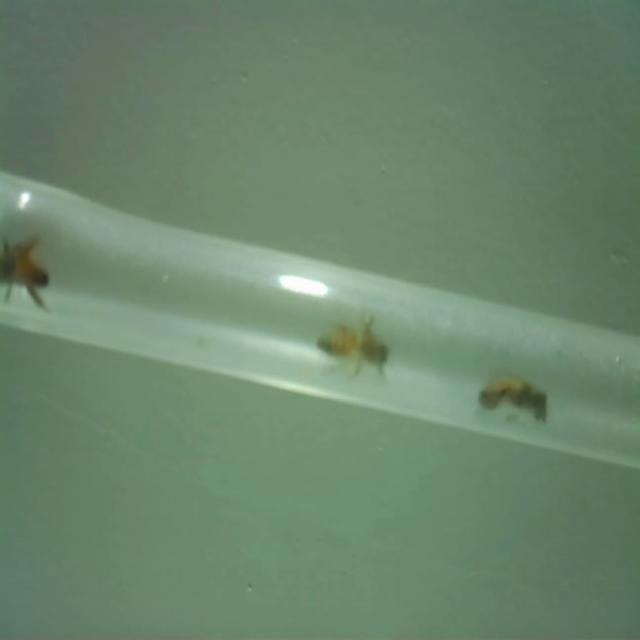Honeybee-Detection: (315, 314, 390, 379), (0, 230, 51, 312), (477, 367, 548, 425)
